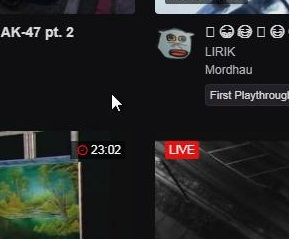cursor: (107, 91, 126, 115)
